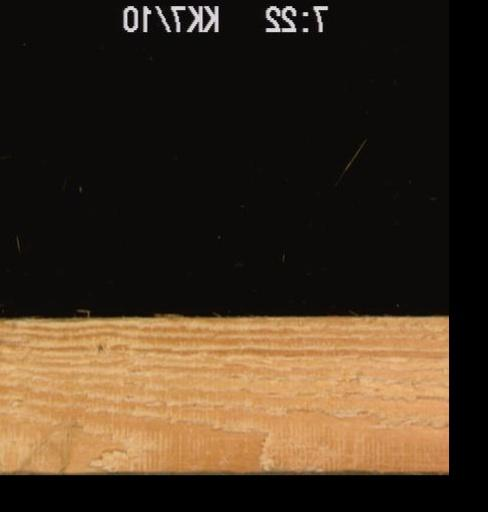small_knot: (87, 337, 108, 356)
